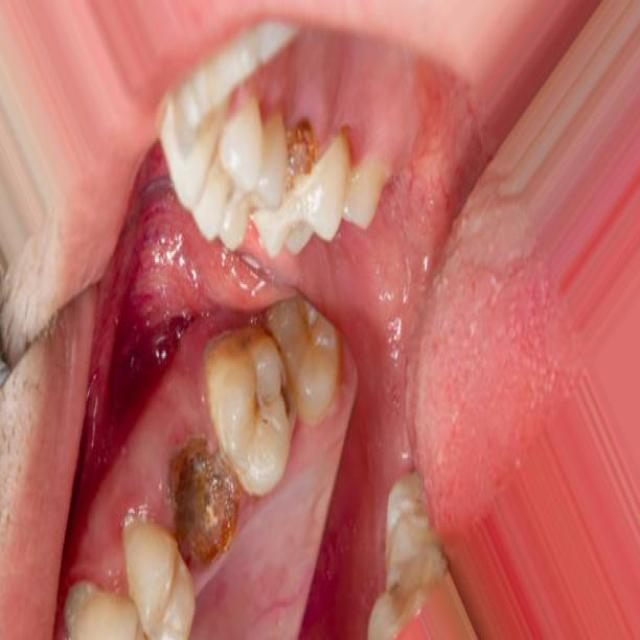caries: (152, 420, 252, 582), (274, 107, 326, 214), (242, 358, 304, 444)
